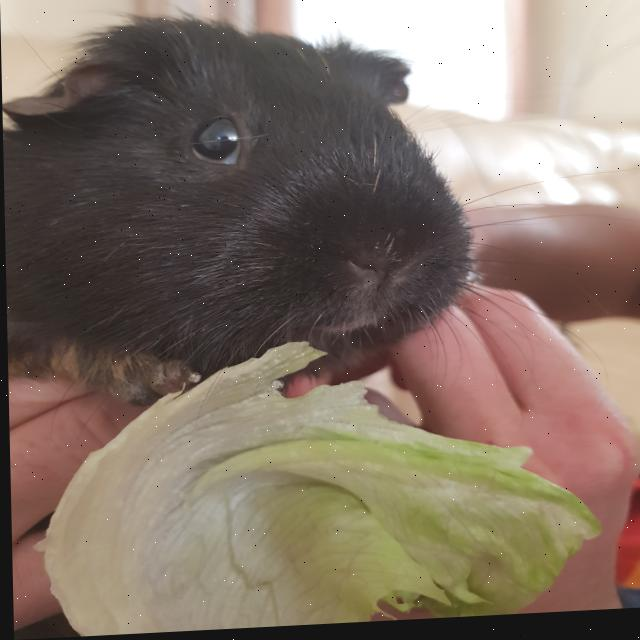guinea pig: (0, 0, 481, 414)
